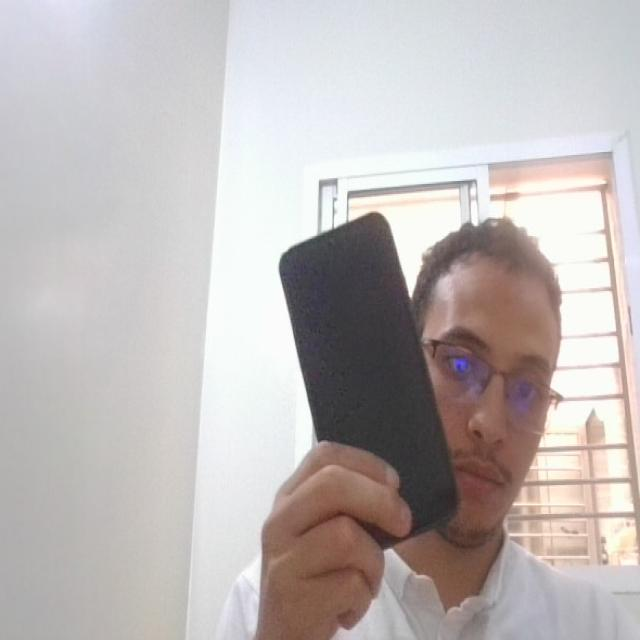phone: (271, 206, 470, 547)
